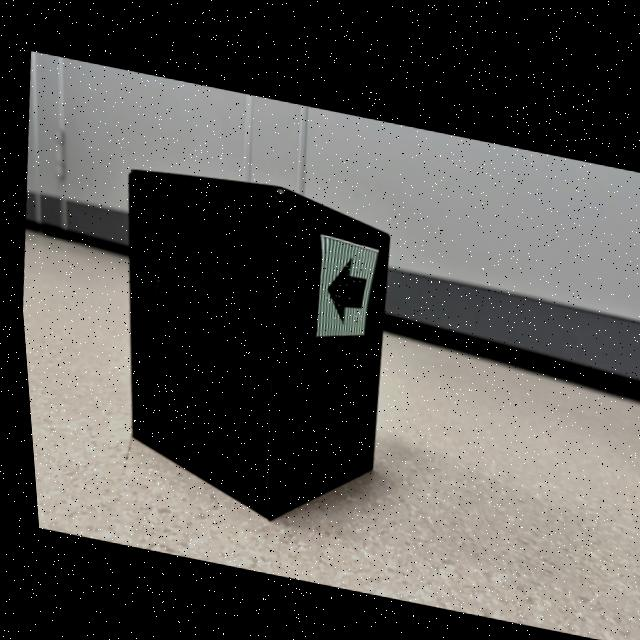LEFT: (322, 252, 361, 315)
